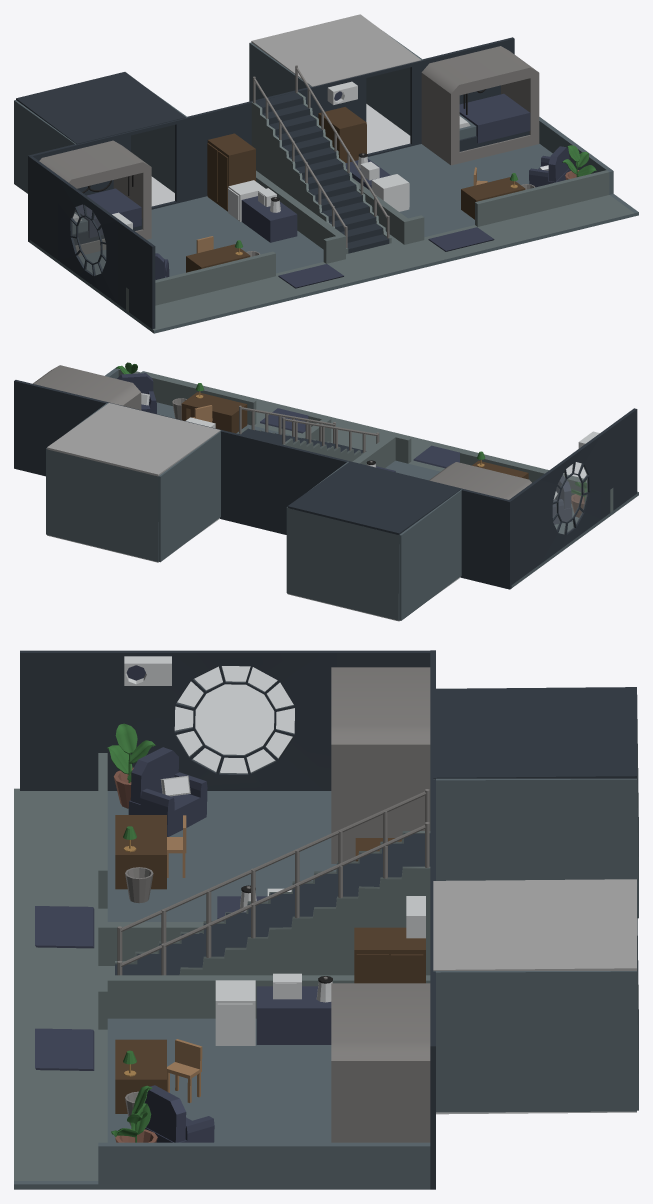
Rendered from two_rooms.fbx.
3 views of the same model, one above another, from view 1: azimuth 30°, elevation 25°; view 2: azimuth 150°, elevation 25°; view 3: azimuth 270°, elevation 25° (orthographic). The views are drawn at different scales.
Visible parts, largest first — view 1: first_floor_GEO, stairs_GEO, window_pane_GEO, bed_frame_2_GEO, toilet_roof_GEO, lobby_floor_GEO12, first_floor_wall_5_GEO, bed_frame_1_GEO, first_floor_wall_2_GEO, first_floor_bed_GEO1, wardrobe_GEO1, toilet_wall_3_GEO (+18 smaller); view 2: first_floor_wall_2_GEO, window_pane_GEO, first_floor_wall_3_GEO, lobby_floor_GEO10, first_floor_GEO, toilet_roof_GEO, lobby_floor_GEO12, first_floor_wall_5_GEO, first_floor_wall_1_GEO, toilet_wall_3_GEO, bed_frame_2_GEO, bed_frame_1_GEO (+8 smaller); view 3: first_floor_GEO, window_pane_GEO, lobby_floor_GEO11, first_floor_wall_4_GEO, stairs_GEO, toilet_roof_GEO, lobby_floor_GEO12, bed_frame_1_GEO, bed_frame_2_GEO, window_glass_GEO, railings_GEO2, sofa_GEO (+15 smaller).
Boxes of the visible parts, box(x1,y1,x2,y2) form: first_floor_GEO: box(29, 117, 638, 333); stairs_GEO: box(251, 92, 391, 254); window_pane_GEO: box(29, 156, 155, 329); bed_frame_2_GEO: box(421, 46, 539, 165); toilet_roof_GEO: box(16, 72, 185, 144); lobby_floor_GEO12: box(251, 14, 420, 86); first_floor_wall_5_GEO: box(28, 101, 251, 242); bed_frame_1_GEO: box(39, 140, 151, 255); first_floor_wall_2_GEO: box(250, 37, 514, 156); first_floor_bed_GEO1: box(459, 93, 530, 151); wardrobe_GEO1: box(207, 133, 255, 211); toilet_wall_3_GEO: box(14, 100, 76, 193); first_floor_wall_2_GEO: box(14, 380, 283, 534); window_pane_GEO: box(507, 408, 637, 586); first_floor_wall_3_GEO: box(287, 508, 399, 620); lobby_floor_GEO10: box(46, 449, 158, 561); first_floor_GEO: box(105, 366, 638, 587); toilet_roof_GEO: box(287, 461, 461, 534); lobby_floor_GEO12: box(47, 403, 220, 476); first_floor_wall_5_GEO: box(283, 445, 511, 589); first_floor_wall_1_GEO: box(158, 430, 221, 562); toilet_wall_3_GEO: box(399, 489, 461, 620); bed_frame_2_GEO: box(33, 365, 141, 409); bed_frame_1_GEO: box(429, 462, 531, 499); first_floor_GEO: box(14, 753, 430, 1189); window_pane_GEO: box(20, 650, 430, 790); lobby_floor_GEO11: box(433, 971, 636, 1112); first_floor_wall_4_GEO: box(434, 778, 636, 880); stairs_GEO: box(115, 831, 430, 975); toilet_roof_GEO: box(433, 687, 636, 778); lobby_floor_GEO12: box(433, 879, 636, 970); bed_frame_1_GEO: box(331, 667, 430, 863); bed_frame_2_GEO: box(331, 983, 430, 1142); window_glass_GEO: box(175, 666, 294, 773); railings_GEO2: box(117, 789, 429, 975); sofa_GEO: box(128, 747, 207, 836).
Size of the model in its own units: 1871 by 415 by 1248.
